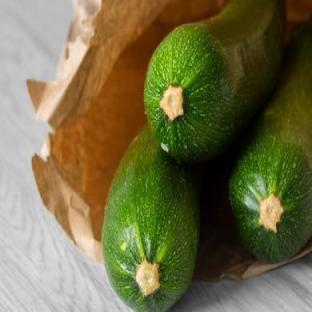Zucchini: (231, 23, 311, 261), (103, 130, 199, 310)
